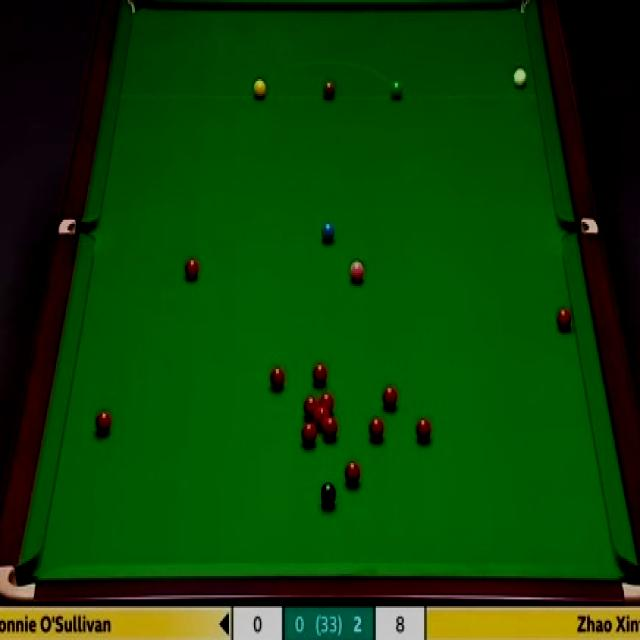black-ball: (319, 481, 335, 508)
blue-ball: (321, 220, 335, 247)
brown-ball: (322, 79, 336, 99)
green-ball: (390, 80, 404, 99)
pink-ball: (348, 260, 365, 284)
red-ball: (413, 416, 434, 446), (268, 363, 287, 393), (380, 382, 398, 413), (368, 416, 385, 446), (345, 458, 361, 488), (95, 409, 111, 437), (556, 307, 572, 334), (318, 391, 335, 416), (301, 422, 317, 448), (322, 416, 338, 441), (312, 363, 328, 388), (304, 394, 319, 420), (186, 256, 200, 283), (315, 407, 330, 429)
white-ball: (512, 65, 528, 89)
yellow-ball: (252, 79, 267, 99)
